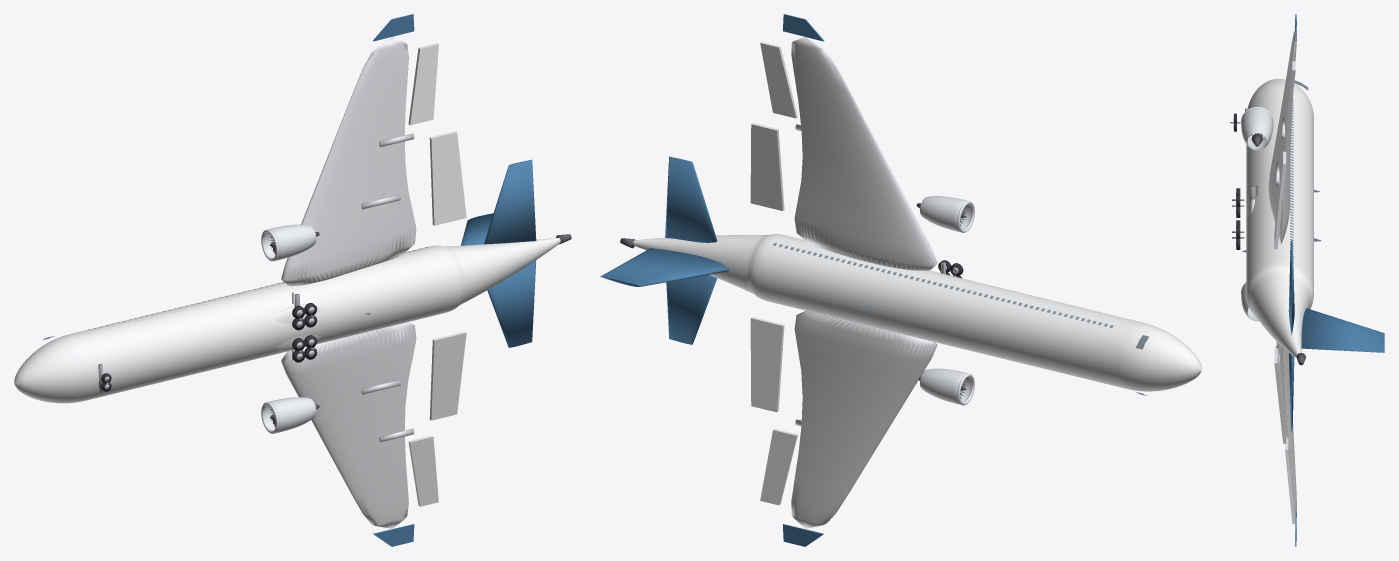
3 views of the same model, side by side, from view 1: azimuth 30°, elevation 25°; view 2: azimuth 150°, elevation 25°; view 3: azimuth 270°, elevation 25° (orthographic).
Parts seen in each view (by area): view 1: Fuselage, Wing_R, Wing_L, HStab_R, Flap_R, HStab_L, Flap_L, Aileron_R, Aileron_L, Nacelle_-1_0, Nacelle_1_0, Fin; view 2: Fuselage, Wing_L, Wing_R, HStab_R, Fin, Flap_L, Flap_R, HStab_L, Aileron_L, Aileron_R, Nacelle_-1_0, Nacelle_1_0; view 3: Fuselage, Fin, Wing_R, Wing_L, Nacelle_1_0, Flap_R, Flap_L, HStab_R, Aileron_L, Aileron_R, HStab_L, Windows_1_70 (+1 smaller).
Boxes of the visible parts, box(x1,y1,x2,y2) form: Fuselage: box(14, 238, 560, 403); Wing_R: box(281, 37, 416, 286); Wing_L: box(281, 322, 416, 528); HStab_R: box(484, 159, 536, 244); Flap_R: box(429, 131, 466, 225); HStab_L: box(487, 260, 536, 347); Flap_L: box(429, 331, 466, 420); Aileron_R: box(408, 43, 438, 125); Aileron_L: box(408, 435, 438, 506); Nacelle_-1_0: box(264, 397, 316, 433); Nacelle_1_0: box(264, 224, 316, 260); Fin: box(461, 213, 493, 245); Fuselage: box(633, 234, 1201, 391); Wing_L: box(791, 311, 937, 528); Wing_R: box(791, 37, 937, 270); HStab_R: box(665, 156, 717, 242); Fin: box(600, 248, 728, 286); Flap_L: box(750, 317, 784, 412); Flap_R: box(750, 123, 784, 210); HStab_L: box(666, 275, 717, 344); Aileron_L: box(760, 429, 797, 505); Aileron_R: box(760, 42, 797, 118); Nacelle_-1_0: box(920, 368, 971, 404); Nacelle_1_0: box(920, 196, 971, 231); Fuselage: box(1246, 79, 1313, 358); Fin: box(1301, 308, 1384, 352); Wing_R: box(1268, 31, 1296, 244); Wing_L: box(1276, 341, 1296, 518); Nacelle_1_0: box(1241, 108, 1273, 150); Flap_R: box(1274, 151, 1286, 249); Flap_L: box(1274, 347, 1286, 443); HStab_R: box(1288, 240, 1294, 334); Aileron_L: box(1285, 438, 1295, 523); Aileron_R: box(1285, 61, 1295, 135); HStab_L: box(1289, 353, 1294, 431); Windows_1_70: box(1290, 99, 1293, 262).
Size of the model in its own units: 54.04 by 47.96 by 12.83.
